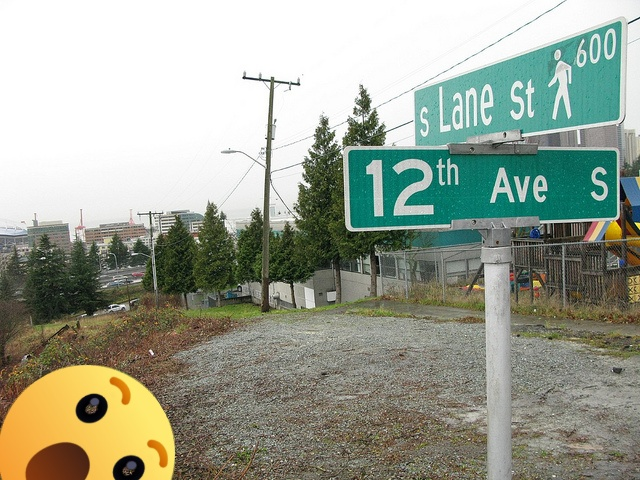wow: (0, 365, 175, 480)
